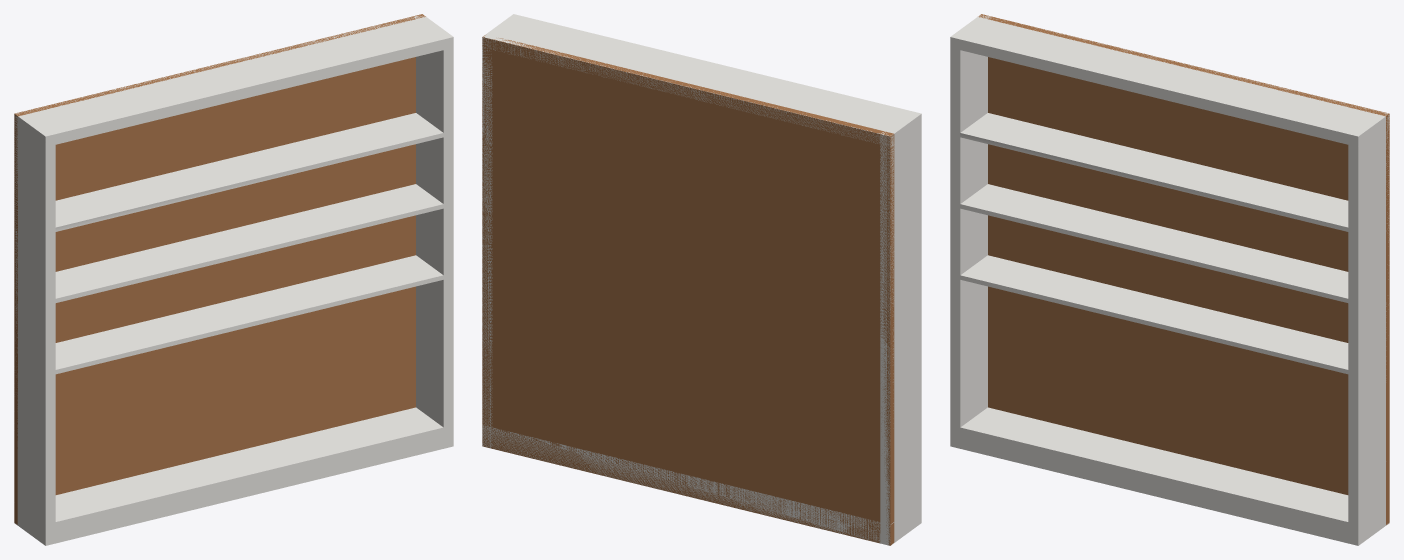
Rendered from wall_bay.glb.
3 renders of one model, left to right at view 1: azimuth 30°, elevation 25°; view 2: azimuth 150°, elevation 25°; view 3: azimuth 330°, elevation 25°, orthographic.
Parts seen in each view (by area): view 1: wall_bay; view 2: wall_bay; view 3: wall_bay.
Part boxes in pixels (x1,y1,x2,y2): wall_bay: (14, 14, 453, 545); wall_bay: (482, 14, 921, 545); wall_bay: (950, 14, 1389, 545).
Bounding box in the file's own units: 2.4 × 2.3 × 0.3199.
